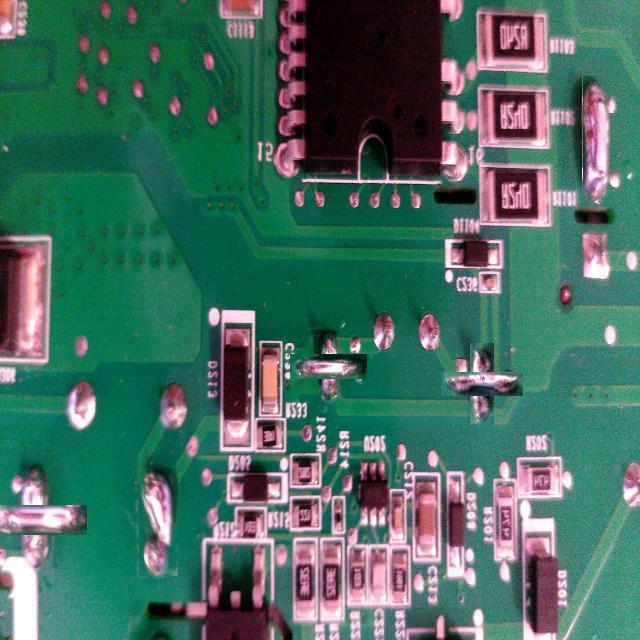Short_circuit: (2, 486, 69, 554), (140, 468, 180, 576), (582, 74, 610, 206), (456, 358, 508, 411), (303, 341, 354, 393)
